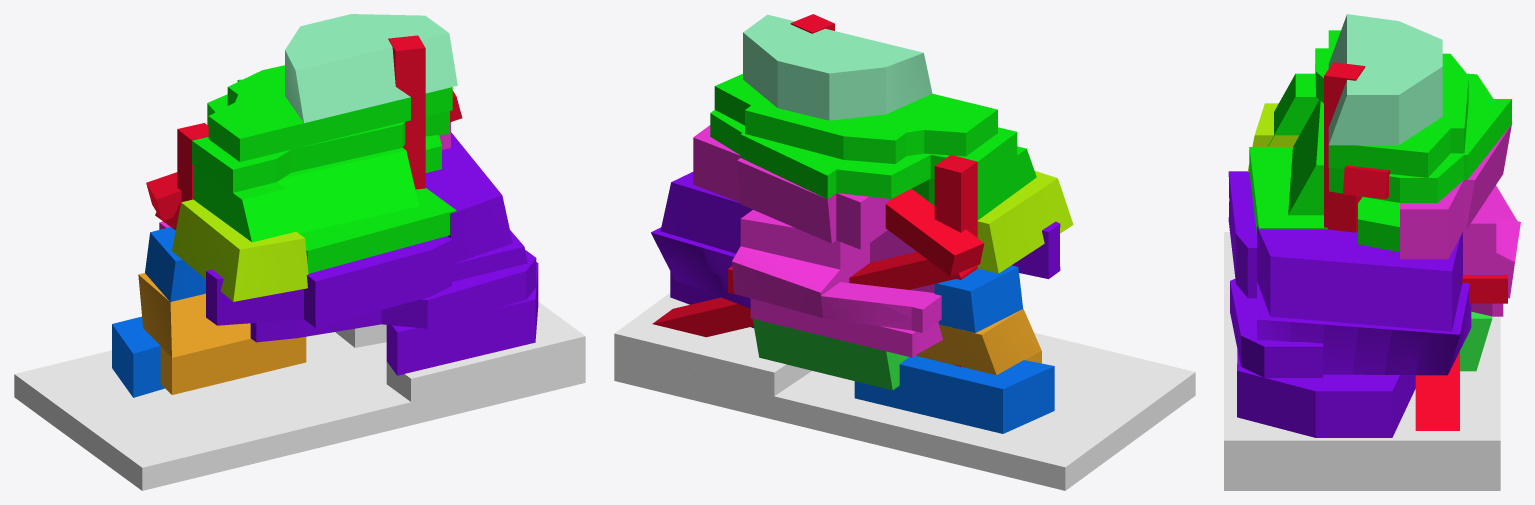
File: program.glb
3 views of the same model, side by side, from view 1: azimuth 30°, elevation 25°; view 2: azimuth 150°, elevation 25°; view 3: azimuth 270°, elevation 25° (orthographic). The views are drawn at different scales.
Parts seen in each view (by area): view 1: Object_34, Object_3, Object_7, Object_13, Object_1, Object_21, Object_33, Object_20; view 2: Object_34, Object_4, Object_3, Object_1, Object_20, Object_13, Object_33, Object_7, Object_27, Object_21; view 3: Object_7, Object_3, Object_13, Object_1, Object_4, Object_34, Object_33, Object_27.
Part boxes in pixels (x1,y1,x2,y2): Object_34: (14,332,585,490); Object_3: (192,65,456,273); Object_7: (206,132,538,375); Object_13: (172,199,585,401); Object_1: (285,14,457,123); Object_21: (138,273,306,394); Object_33: (146,35,462,230); Object_20: (112,227,205,397); Object_34: (614,332,1195,490); Object_4: (693,125,942,357); Object_3: (710,74,1036,220); Object_1: (743,14,932,120); Object_20: (854,265,1054,433); Object_13: (614,171,1073,396); Object_33: (652,14,984,366); Object_7: (651,172,1060,328); Object_27: (752,319,908,390); Object_21: (915,309,1041,375); Object_7: (1228,171,1471,437); Object_3: (1249,30,1511,252); Object_13: (1224,103,1500,465); Object_1: (1328,14,1442,145); Object_4: (1400,124,1520,316); Object_34: (1224,232,1500,490); Object_33: (1324,62,1507,430); Object_27: (1460,311,1492,371).
Bounding box in the file's own units: 32.12 × 24.29 × 17.23.
